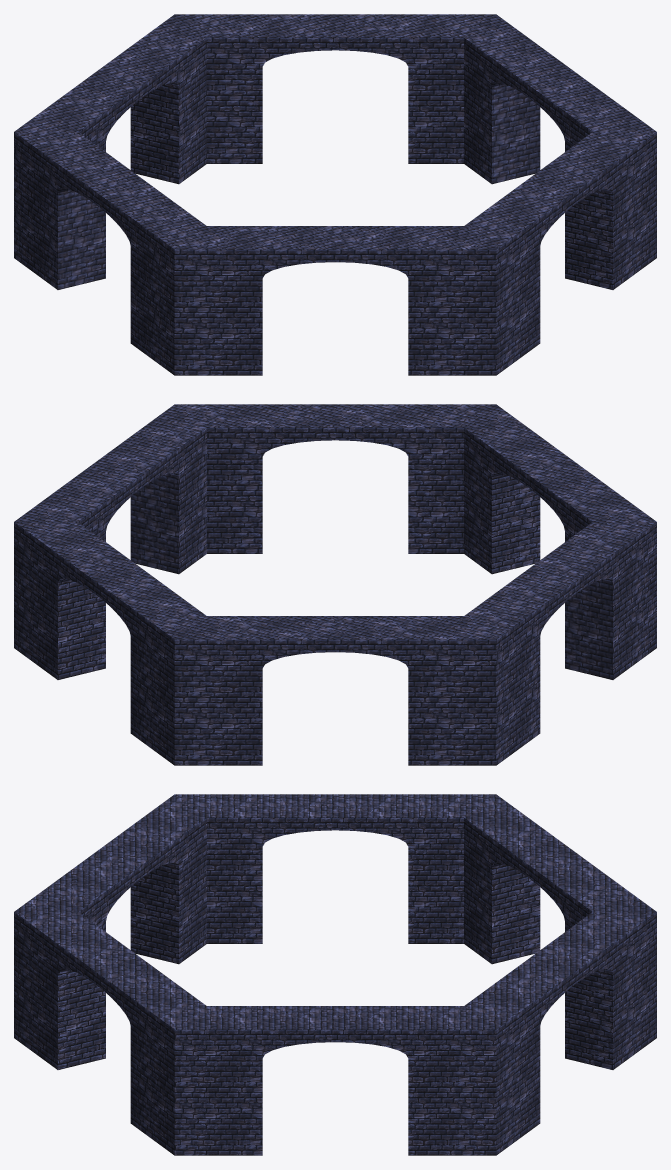
The model's file is test_stonehenge.glb.
3 views of the same model, one above another, from view 1: azimuth 30°, elevation 25°; view 2: azimuth 150°, elevation 25°; view 3: azimuth 270°, elevation 25° (orthographic).
Visible parts, largest first — view 1: hexagon_arches; view 2: hexagon_arches; view 3: hexagon_arches.
Boxes of the visible parts, left/top/right/bottom form: hexagon_arches: left=14, top=14, right=656, bottom=375; hexagon_arches: left=14, top=404, right=656, bottom=765; hexagon_arches: left=14, top=794, right=656, bottom=1155.
Size of the model in its own units: 8 by 2 by 9.24.
1 material, 1 textured.
